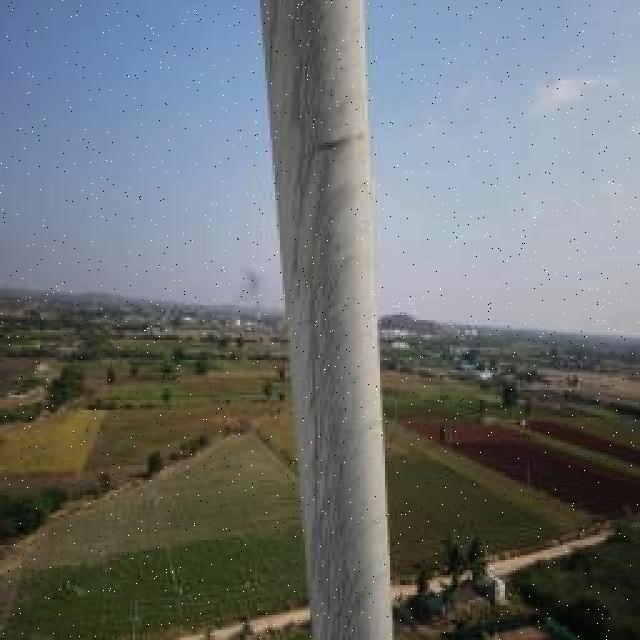Dirt: (261, 0, 377, 640)
